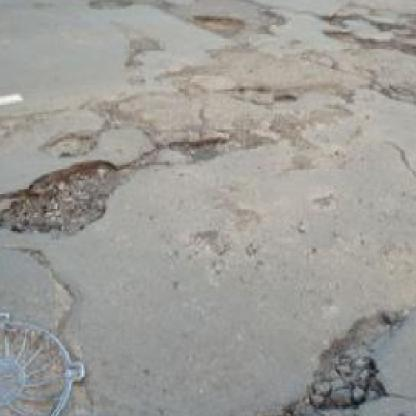pothole: (0, 160, 119, 238), (304, 326, 392, 416), (123, 29, 162, 71), (41, 133, 100, 160), (166, 140, 230, 163), (378, 18, 416, 56), (193, 12, 244, 36), (75, 0, 136, 10), (323, 30, 355, 44), (274, 94, 297, 103)
